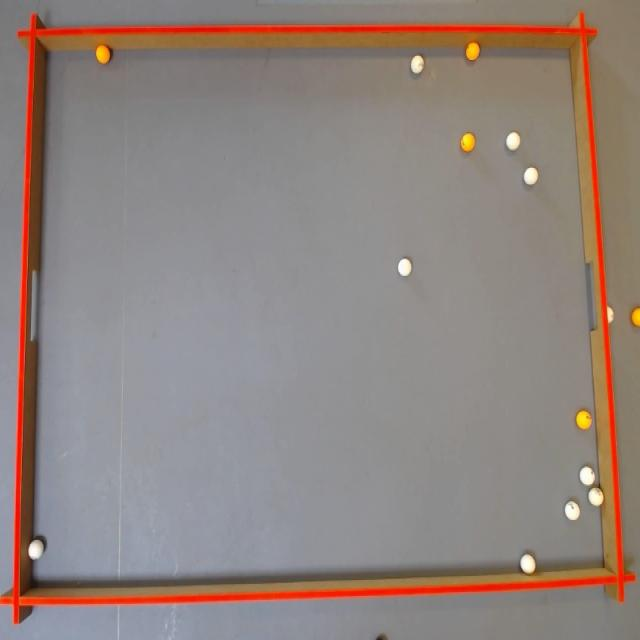orange_ball: (576, 410, 592, 430), (96, 44, 110, 64), (460, 133, 474, 152), (466, 42, 480, 60), (630, 308, 639, 327)
white_ball: (28, 538, 44, 560), (520, 554, 536, 574), (579, 466, 595, 486), (588, 487, 604, 506), (565, 501, 580, 521), (411, 54, 424, 74), (506, 132, 520, 150), (524, 167, 538, 185), (398, 258, 411, 276), (607, 306, 614, 324)
